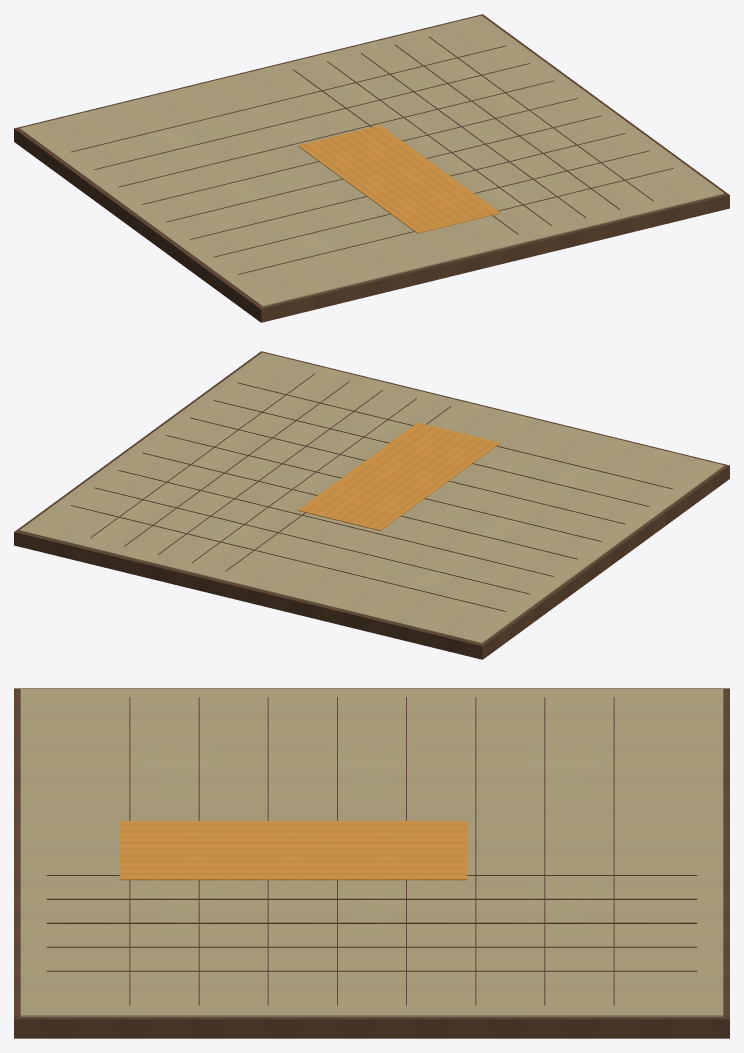
File: atlas100-s013-a07.lod2.glb
3 renders of one model, top to bottom at view 1: azimuth 30°, elevation 25°; view 2: azimuth 150°, elevation 25°; view 3: azimuth 270°, elevation 25°, orthographic. The views are drawn at different scales.
Visible parts, largest first — view 1: atlas100-s013-a07:part-001, atlas100-s013-a07:part-000, atlas100-s013-a07:part-021, atlas100-s013-a07:part-015, atlas100-s013-a07:part-013, atlas100-s013-a07:part-014, atlas100-s013-a07:part-017, atlas100-s013-a07:part-016, atlas100-s013-a07:part-018, atlas100-s013-a07:part-019, atlas100-s013-a07:part-020; view 2: atlas100-s013-a07:part-001, atlas100-s013-a07:part-000, atlas100-s013-a07:part-021, atlas100-s013-a07:part-013, atlas100-s013-a07:part-014, atlas100-s013-a07:part-015, atlas100-s013-a07:part-016, atlas100-s013-a07:part-018, atlas100-s013-a07:part-019, atlas100-s013-a07:part-017, atlas100-s013-a07:part-020; view 3: atlas100-s013-a07:part-001, atlas100-s013-a07:part-000, atlas100-s013-a07:part-021, atlas100-s013-a07:part-009, atlas100-s013-a07:part-011, atlas100-s013-a07:part-012, atlas100-s013-a07:part-010, atlas100-s013-a07:part-013, atlas100-s013-a07:part-014, atlas100-s013-a07:part-015.
Boxes of the visible parts, <box> form: atlas100-s013-a07:part-001: <box>19,15,724,306</box>; atlas100-s013-a07:part-000: <box>14,14,729,322</box>; atlas100-s013-a07:part-021: <box>297,125,500,233</box>; atlas100-s013-a07:part-015: <box>118,80,553,187</box>; atlas100-s013-a07:part-013: <box>71,45,505,152</box>; atlas100-s013-a07:part-014: <box>94,63,529,169</box>; atlas100-s013-a07:part-017: <box>166,115,601,222</box>; atlas100-s013-a07:part-016: <box>142,98,577,204</box>; atlas100-s013-a07:part-018: <box>190,133,625,239</box>; atlas100-s013-a07:part-019: <box>214,150,649,257</box>; atlas100-s013-a07:part-020: <box>238,168,673,274</box>; atlas100-s013-a07:part-001: <box>19,352,724,643</box>; atlas100-s013-a07:part-000: <box>14,351,729,659</box>; atlas100-s013-a07:part-021: <box>297,422,500,530</box>; atlas100-s013-a07:part-013: <box>70,505,505,611</box>; atlas100-s013-a07:part-014: <box>94,487,529,594</box>; atlas100-s013-a07:part-015: <box>118,470,553,576</box>; atlas100-s013-a07:part-016: <box>142,452,577,559</box>; atlas100-s013-a07:part-018: <box>190,417,625,524</box>; atlas100-s013-a07:part-019: <box>214,400,649,506</box>; atlas100-s013-a07:part-017: <box>166,435,601,541</box>; atlas100-s013-a07:part-020: <box>238,382,672,489</box>; atlas100-s013-a07:part-001: <box>20,689,723,1016</box>; atlas100-s013-a07:part-000: <box>14,688,729,1038</box>; atlas100-s013-a07:part-021: <box>119,821,466,880</box>; atlas100-s013-a07:part-009: <box>46,898,697,899</box>; atlas100-s013-a07:part-011: <box>46,946,697,947</box>; atlas100-s013-a07:part-012: <box>46,970,697,971</box>; atlas100-s013-a07:part-010: <box>46,922,697,923</box>; atlas100-s013-a07:part-013: <box>613,697,614,1005</box>; atlas100-s013-a07:part-014: <box>544,697,545,1005</box>; atlas100-s013-a07:part-015: <box>475,697,476,1005</box>.
Size of the model in its own units: 12.46 by 0.404 by 11.39.
3 materials, 3 textured.
